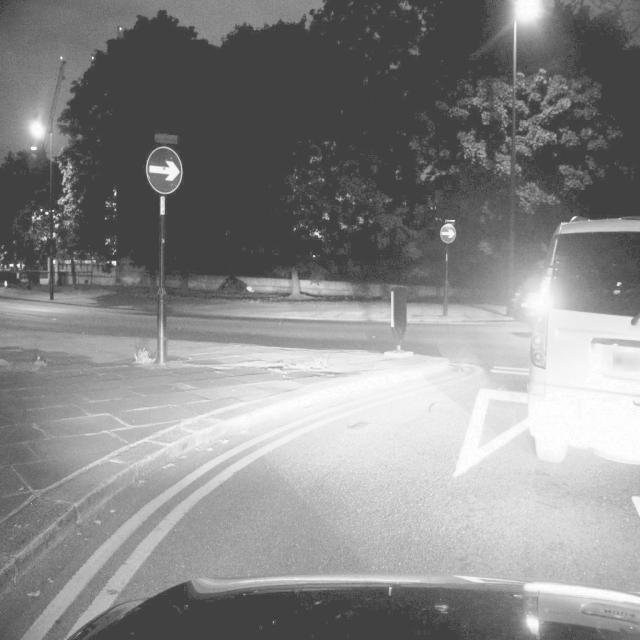Sign: (147, 146, 183, 194), (390, 286, 408, 346), (440, 224, 456, 243), (155, 133, 177, 143)
